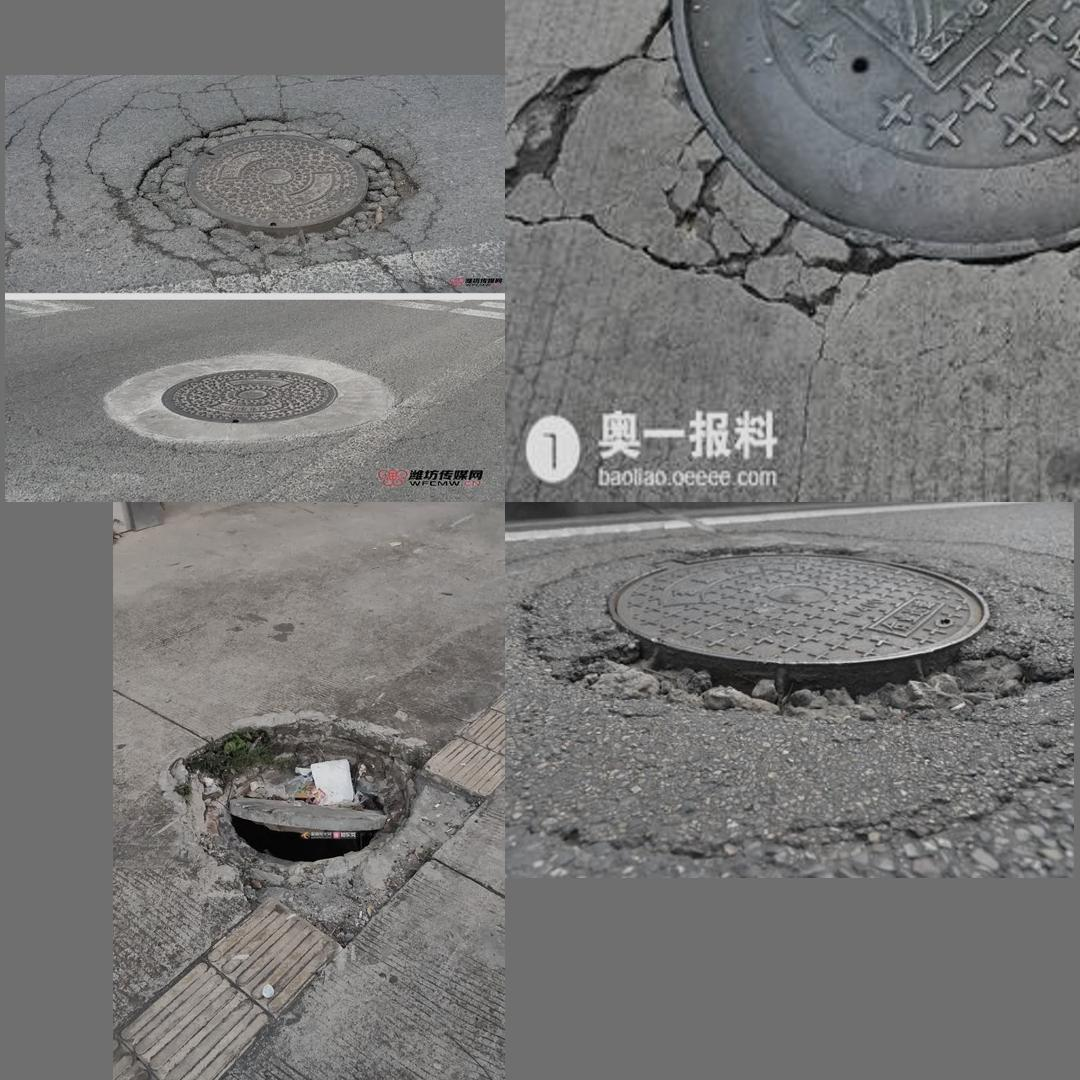circle: (526, 0, 1080, 314), (524, 536, 1053, 733), (147, 705, 468, 931), (119, 115, 442, 265)
